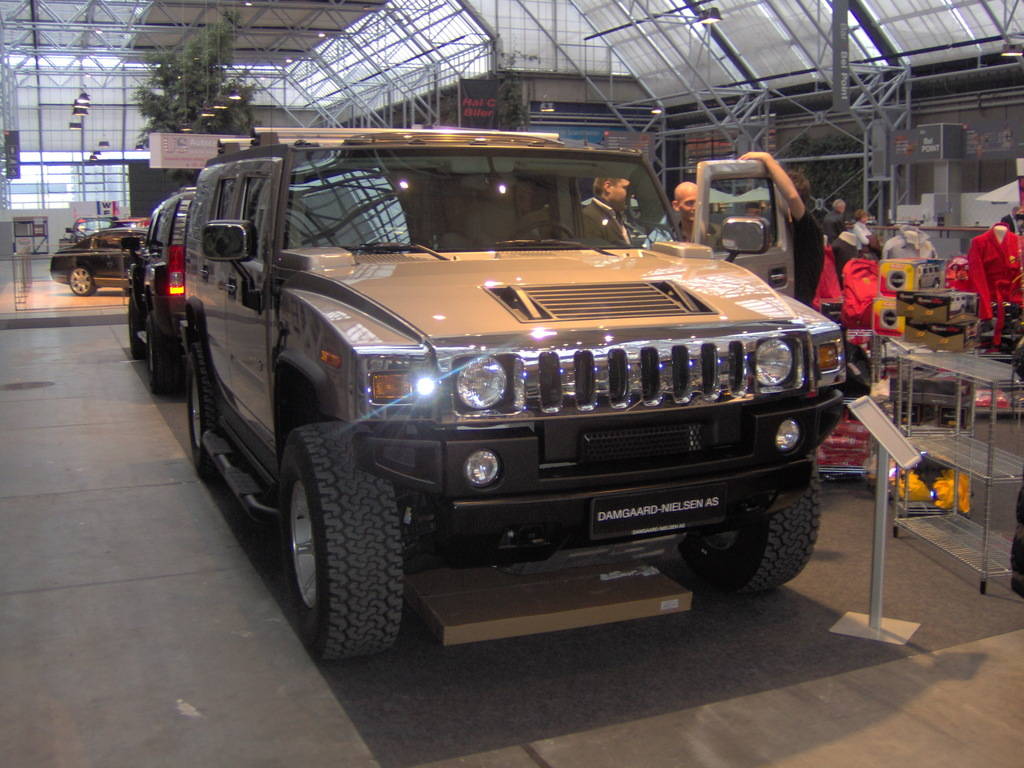Car: (184, 62, 846, 660), (129, 187, 198, 393), (49, 229, 149, 296)
